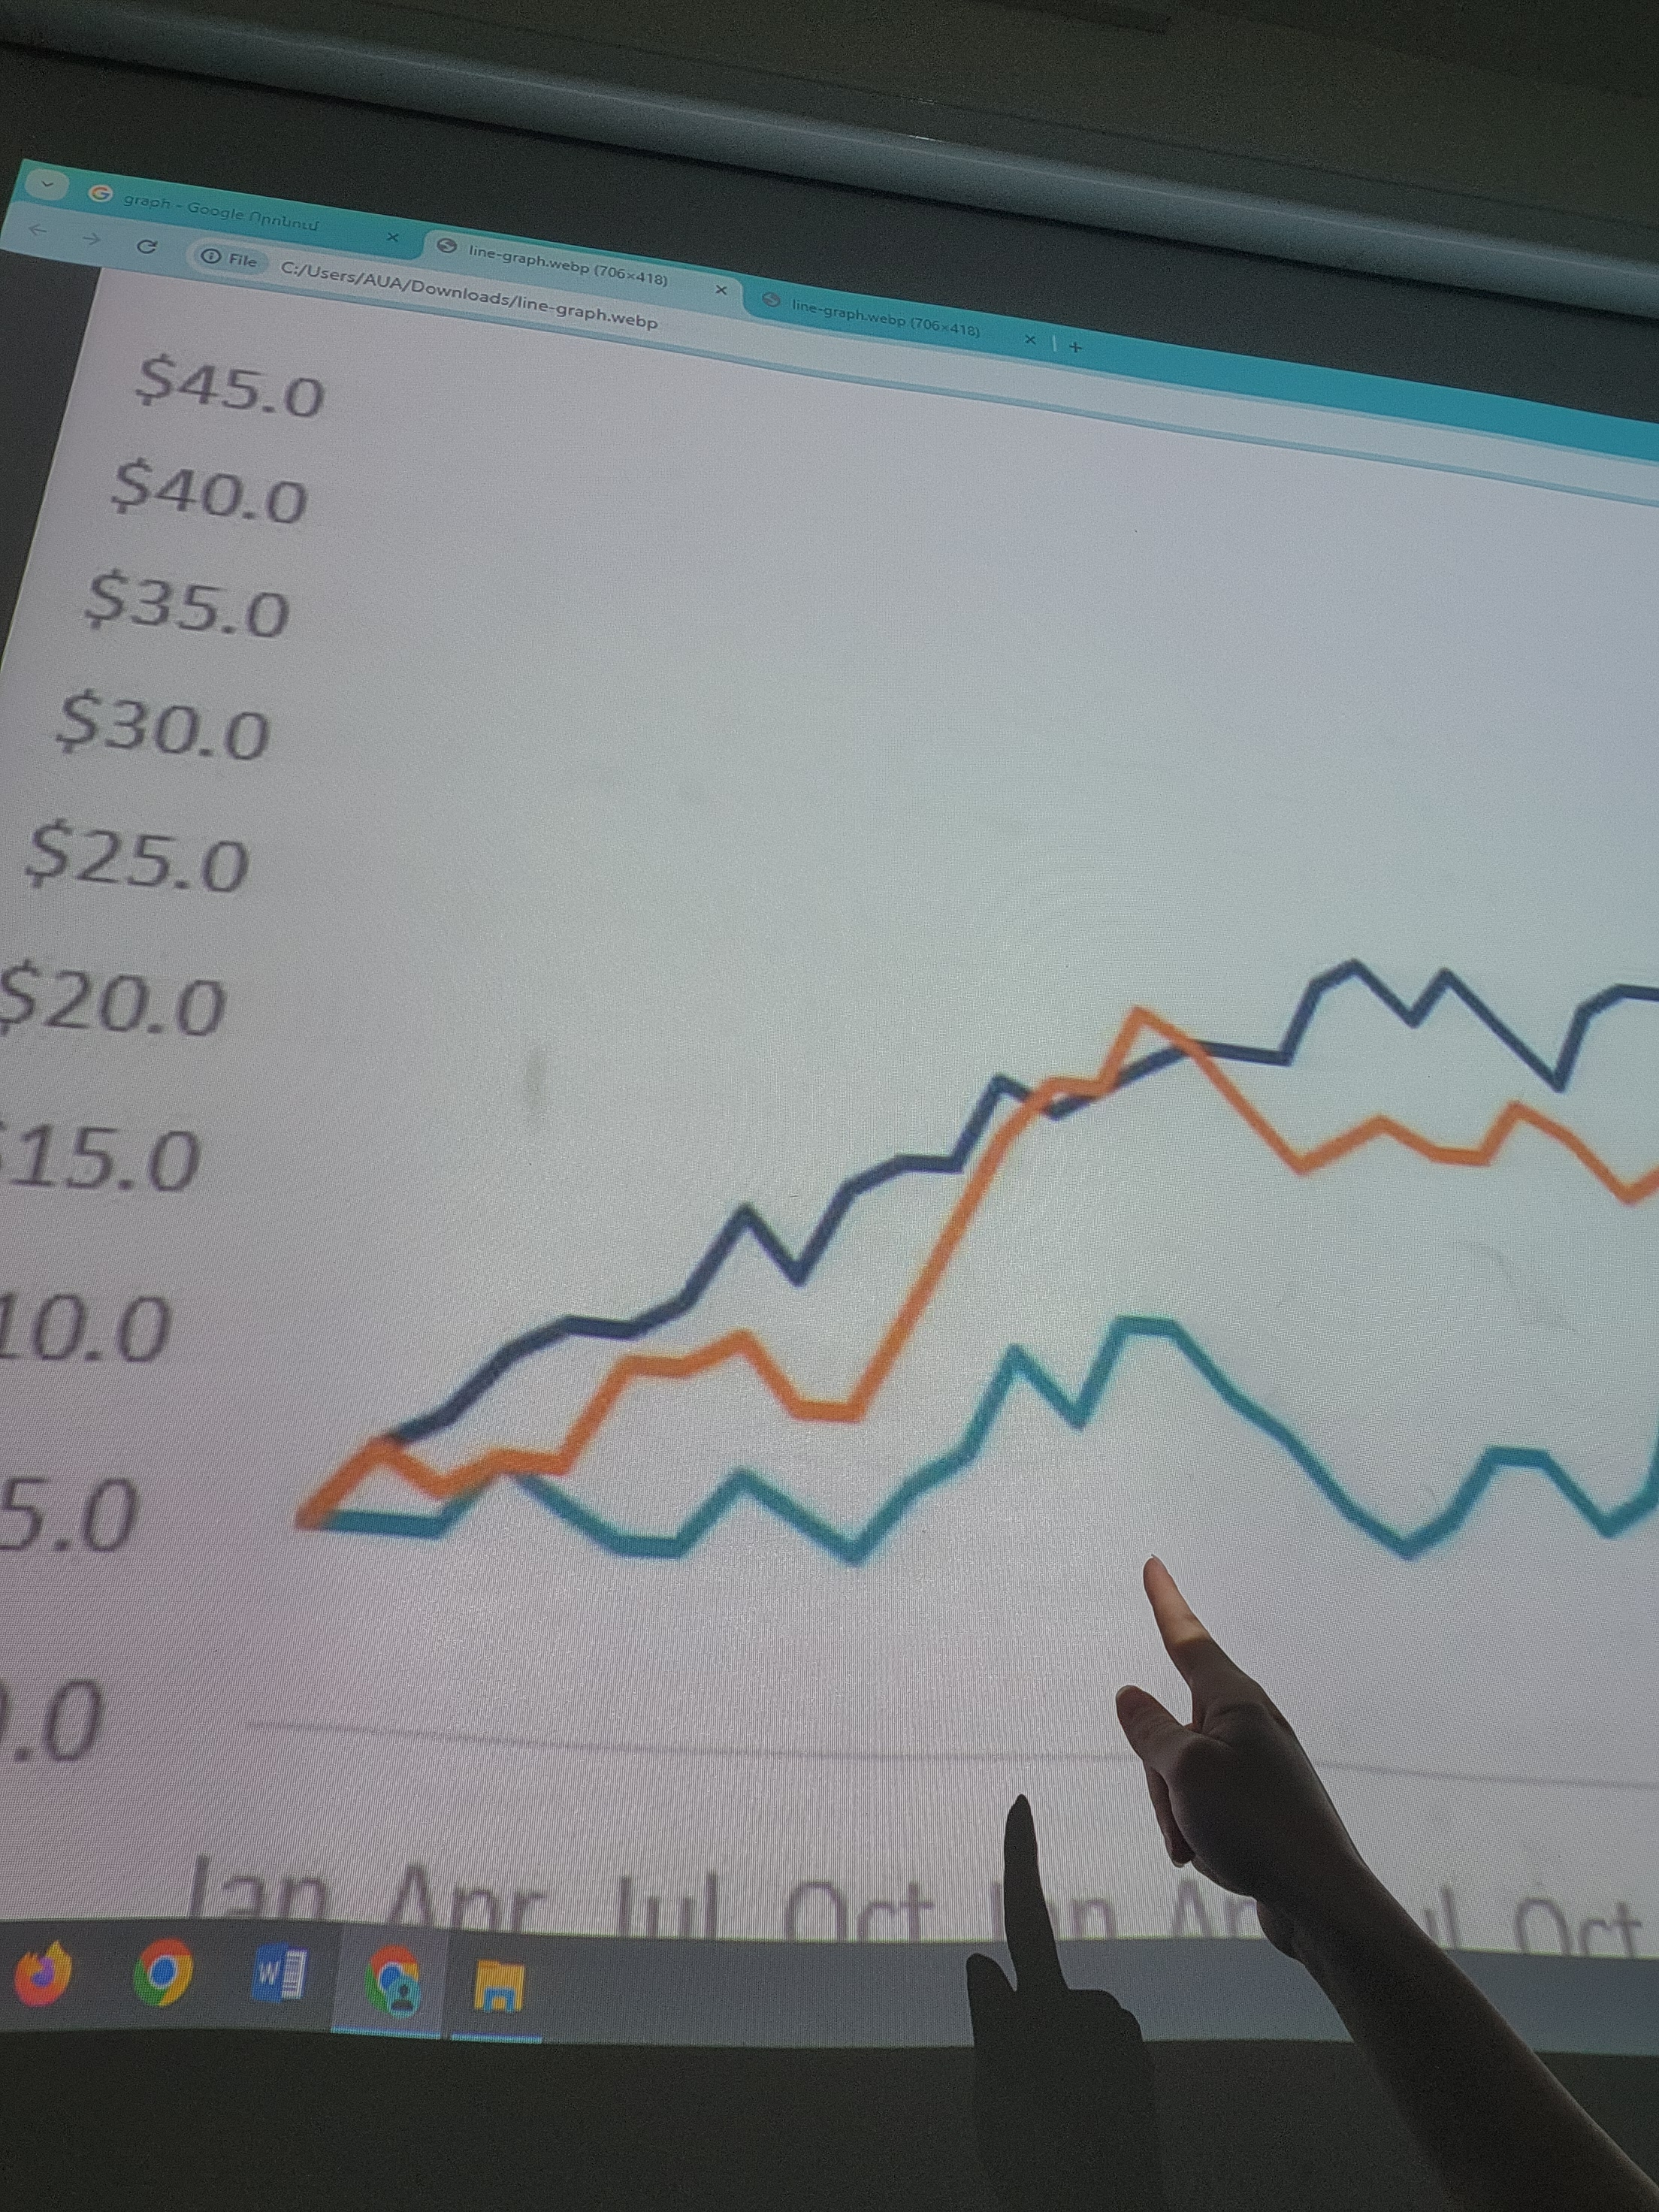pointing_gesture: (1120, 1549, 1336, 1918)
